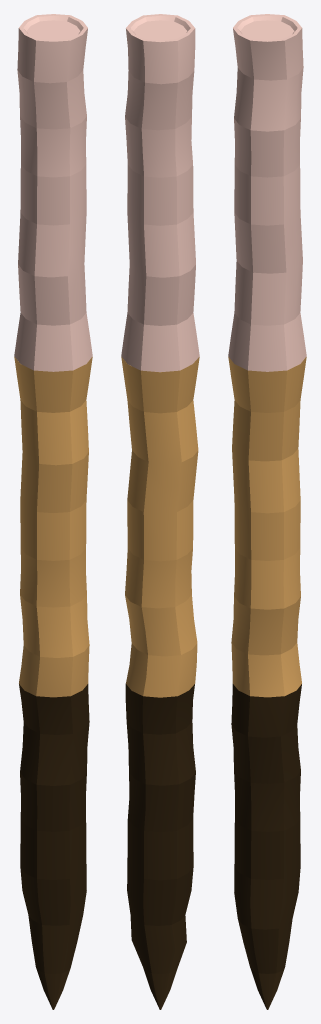
Rendered from balise_fix.fbx.
3 renders of one model, left to right at view 1: azimuth 90°, elevation 25°; view 2: azimuth 150°, elevation 25°; view 3: azimuth 270°, elevation 25°, orthographic.
Parts seen in each view (by area): view 1: Cylinder.008; view 2: Cylinder.008; view 3: Cylinder.008.
Boxes of the visible parts, x1,y1,x2,y2 form: Cylinder.008: (14,14,92,1009); Cylinder.008: (121,14,199,1009); Cylinder.008: (228,14,306,1009).
Size of the model in its own units: 117 by 1702 by 123.
